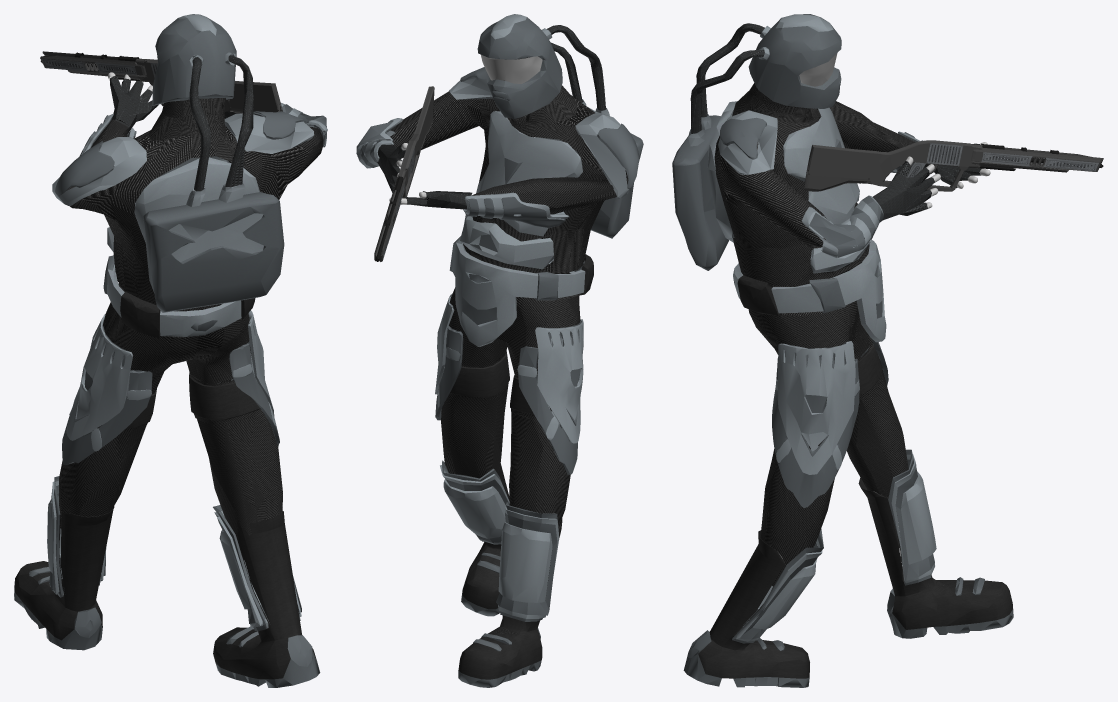
Rendered from AndarEscopeta.0020.obj.
3 views of the same model, side by side, from view 1: azimuth 30°, elevation 25°; view 2: azimuth 150°, elevation 25°; view 3: azimuth 270°, elevation 25° (orthographic). The views are drawn at different scales.
Visible parts, largest first — view 1: personaje:extrudedSurface2 polySurface162, personaje:bota1 polySurface162, personaje:PANTALON polySurface162, personaje:CAMISETABUENA polySurface162, personaje:pPipe4 polySurface162, personaje:pCube4 polySurface162, personaje:cosoarmdaurapierna1 polySurface162, personaje:cinturon polySurface162, escopeta:Cylinder001 polySurface162, personaje:polySurface6 polySurface162, personaje:armadbota1 polySurface162, personaje:HOMBRO2 polySurface162 (+4 smaller); view 2: personaje:PANTALON polySurface162, personaje:pPipe4 polySurface162, personaje:CAMISETABUENA polySurface162, personaje:extrudedSurface2 polySurface162, personaje:cinturon polySurface162, personaje:armadbota1 polySurface162, personaje:bota1 polySurface162, personaje:pCube4 polySurface162, personaje:cosoarmdaurapierna1 polySurface162, escopeta:Cylinder001 polySurface162, personaje:polySurface6 polySurface162, personaje:polySurface2 polySurface162 (+6 smaller); view 3: personaje:bota1 polySurface162, personaje:CAMISETABUENA polySurface162, personaje:extrudedSurface2 polySurface162, personaje:PANTALON polySurface162, personaje:pPipe4 polySurface162, personaje:pCube4 polySurface162, escopeta:Cylinder001 polySurface162, personaje:cinturon polySurface162, personaje:armadbota1 polySurface162, personaje:cosoarmadurapierna2 polySurface162, personaje:hombro1 polySurface162, personaje:partearmdBRAZO2 polySurface162 (+2 smaller).
Boxes of the visible parts, <box> form: personaje:extrudedSurface2 polySurface162: <box>143,14,284,312</box>; personaje:bota1 polySurface162: <box>14,507,320,687</box>; personaje:PANTALON polySurface162: <box>59,283,282,560</box>; personaje:CAMISETABUENA polySurface162: <box>67,98,323,337</box>; personaje:pPipe4 polySurface162: <box>52,75,326,252</box>; personaje:pCube4 polySurface162: <box>49,310,301,630</box>; personaje:cosoarmdaurapierna1 polySurface162: <box>66,314,151,451</box>; personaje:cinturon polySurface162: <box>103,255,255,338</box>; escopeta:Cylinder001 polySurface162: <box>40,51,282,113</box>; personaje:polySurface6 polySurface162: <box>125,372,260,429</box>; personaje:armadbota1 polySurface162: <box>47,480,301,627</box>; personaje:HOMBRO2 polySurface162: <box>55,141,114,195</box>; personaje:PANTALON polySurface162: <box>441,264,580,527</box>; personaje:pPipe4 polySurface162: <box>356,76,631,269</box>; personaje:CAMISETABUENA polySurface162: <box>374,57,628,300</box>; personaje:extrudedSurface2 polySurface162: <box>477,14,643,238</box>; personaje:cinturon polySurface162: <box>449,236,593,346</box>; personaje:armadbota1 polySurface162: <box>440,465,559,618</box>; personaje:bota1 polySurface162: <box>458,463,562,687</box>; personaje:pCube4 polySurface162: <box>435,293,580,621</box>; personaje:cosoarmdaurapierna1 polySurface162: <box>517,319,583,443</box>; escopeta:Cylinder001 polySurface162: <box>374,86,434,261</box>; personaje:polySurface6 polySurface162: <box>450,350,533,414</box>; personaje:polySurface2 polySurface162: <box>465,197,565,227</box>; personaje:bota1 polySurface162: <box>683,477,1013,687</box>; personaje:CAMISETABUENA polySurface162: <box>714,83,915,315</box>; personaje:extrudedSurface2 polySurface162: <box>672,14,841,270</box>; personaje:PANTALON polySurface162: <box>748,262,908,586</box>; personaje:pPipe4 polySurface162: <box>707,101,981,273</box>; personaje:pCube4 polySurface162: <box>732,338,934,643</box>; escopeta:Cylinder001 polySurface162: <box>804,140,1103,191</box>; personaje:cinturon polySurface162: <box>733,240,886,342</box>; personaje:armadbota1 polySurface162: <box>736,454,936,641</box>; personaje:cosoarmadurapierna2 polySurface162: <box>772,351,859,507</box>; personaje:hombro1 polySurface162: <box>720,117,766,159</box>; personaje:partearmdBRAZO2 polySurface162: <box>802,195,883,258</box>.
Size of the model in its own units: 4.25 by 9.54 by 5.71.
